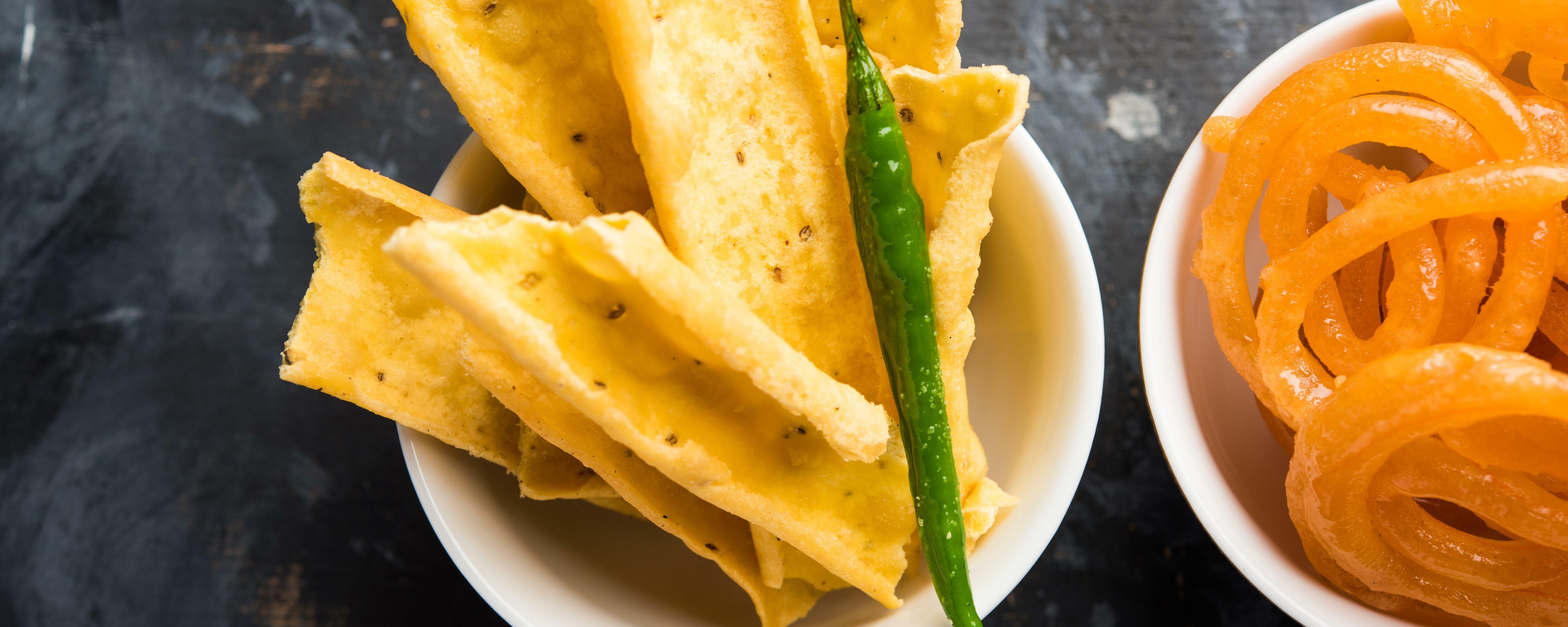Jalebi: (1194, 0, 1568, 627)
